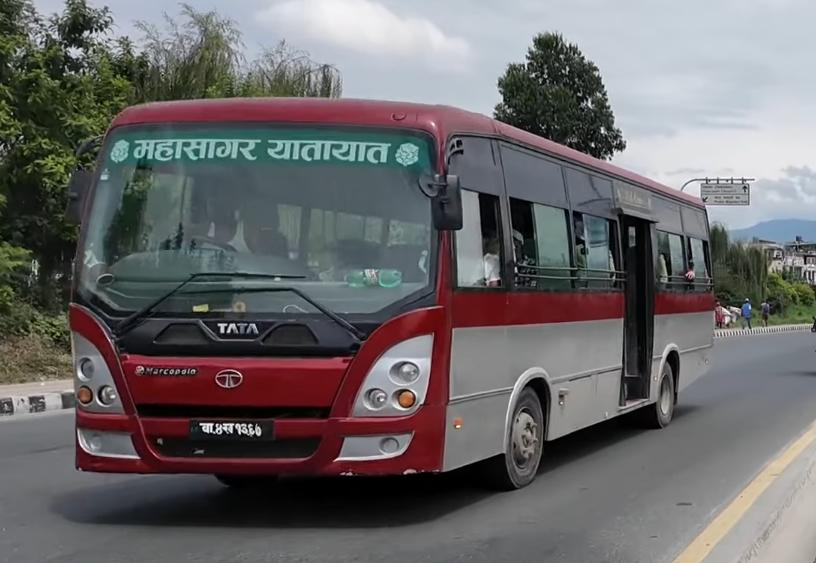bus: (61, 83, 729, 497)
